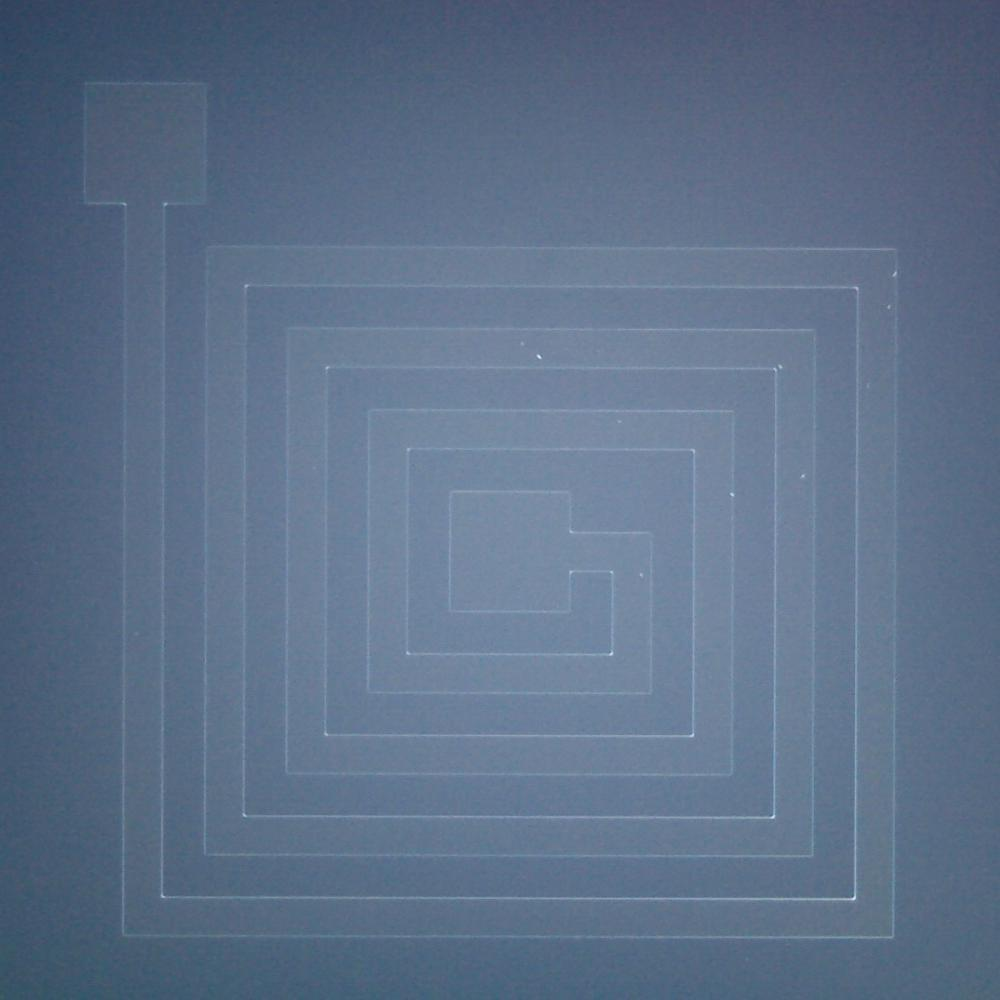dot: (522, 341, 556, 368)
